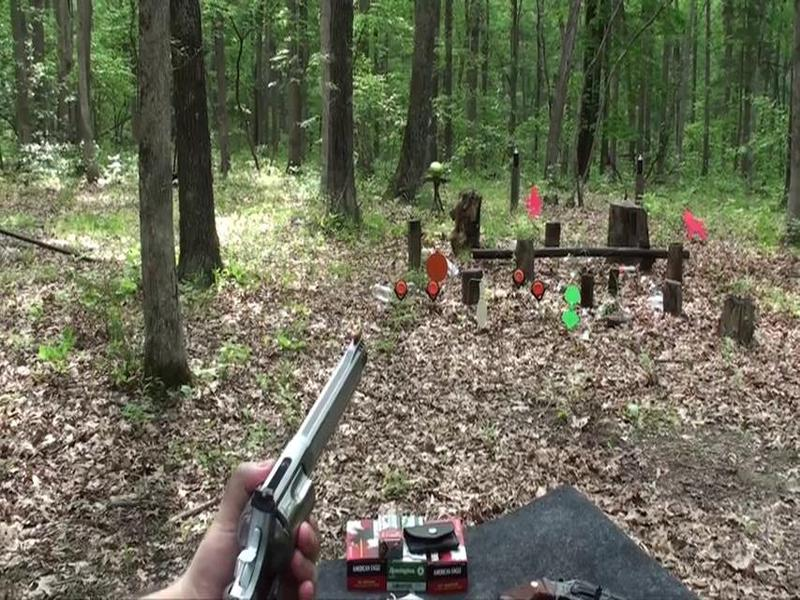Revolver: (230, 315, 404, 600)
